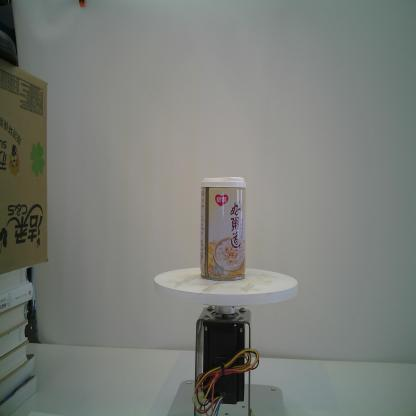Canned Food: (198, 175, 247, 282)
